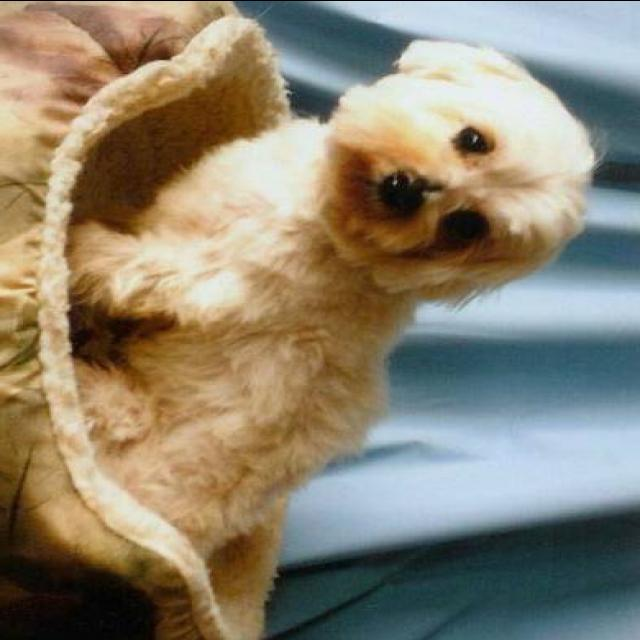dog: (53, 29, 619, 574)
